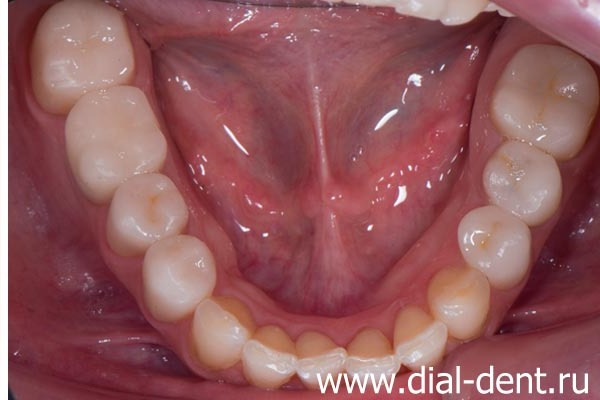LL1BC_healthy: (459, 208, 530, 282)
LL1M_healthy: (492, 47, 597, 147)
LL2BC_healthy: (484, 140, 563, 223)
LLCI_healthy: (347, 326, 397, 373)
LLC_healthy: (426, 264, 489, 335)
LLLI_healthy: (395, 306, 444, 365)
LR1BC_healthy: (145, 243, 213, 316)
LR1M_healthy: (68, 93, 170, 180)
LR2BC_healthy: (113, 176, 183, 242)
LR2M_healthy: (36, 7, 137, 89)
LRCI_healthy: (297, 330, 346, 373)
LRC_healthy: (195, 296, 248, 369)
LRLI_healthy: (246, 324, 293, 384)
